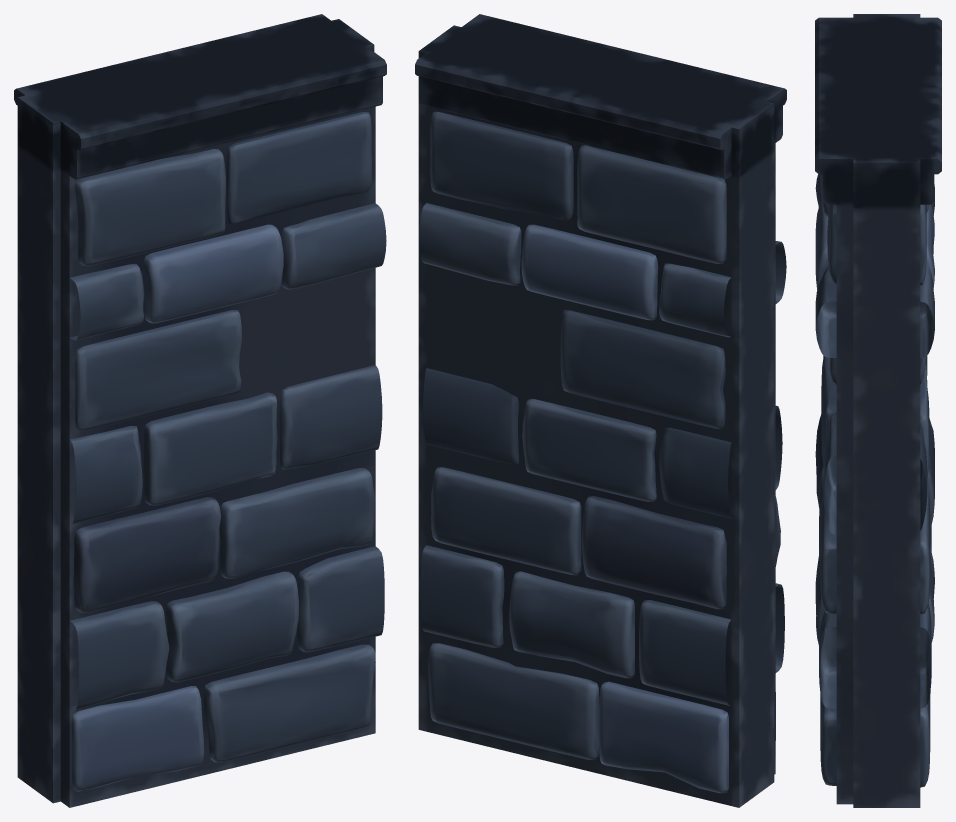
The model's file is Wall1-1.fbx.
3 views of the same model, side by side, from view 1: azimuth 30°, elevation 25°; view 2: azimuth 150°, elevation 25°; view 3: azimuth 270°, elevation 25° (orthographic). The views are drawn at different scales.
Parts seen in each view (by area): view 1: WallTileB4; view 2: WallTileB4; view 3: WallTileB4.
Part boxes in pixels (left/top/right/bottom): WallTileB4: left=14, top=14, right=386, bottom=807; WallTileB4: left=415, top=14, right=786, bottom=807; WallTileB4: left=815, top=14, right=941, bottom=807.
Size of the model in its own units: 2.1 by 4.25 by 0.7578.
